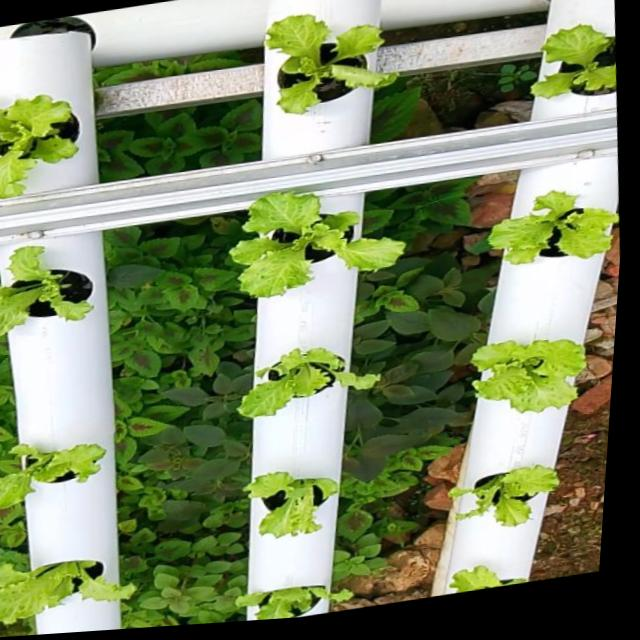Baby: (229, 192, 409, 299), (264, 9, 402, 112), (237, 351, 384, 423), (494, 190, 619, 266), (476, 341, 597, 417), (0, 569, 132, 634), (0, 247, 89, 336), (0, 93, 74, 197), (454, 470, 568, 533), (0, 450, 102, 516), (244, 478, 342, 545), (539, 19, 616, 96)
